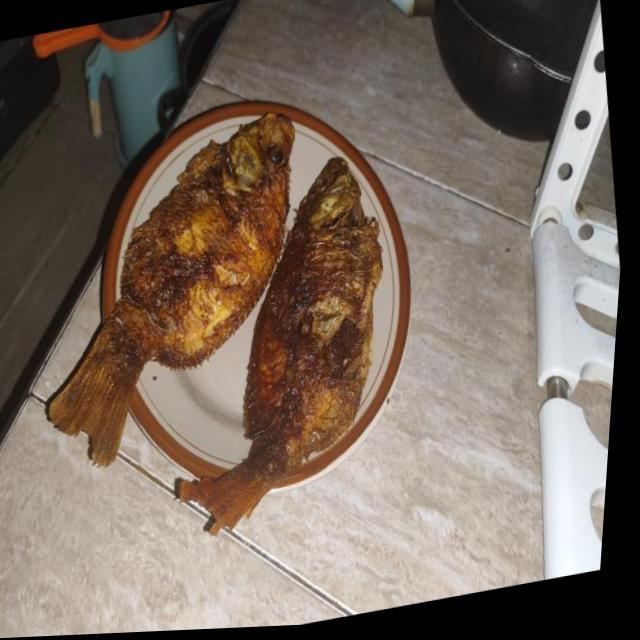ikan_mujair: (48, 113, 296, 466), (180, 158, 383, 534)
